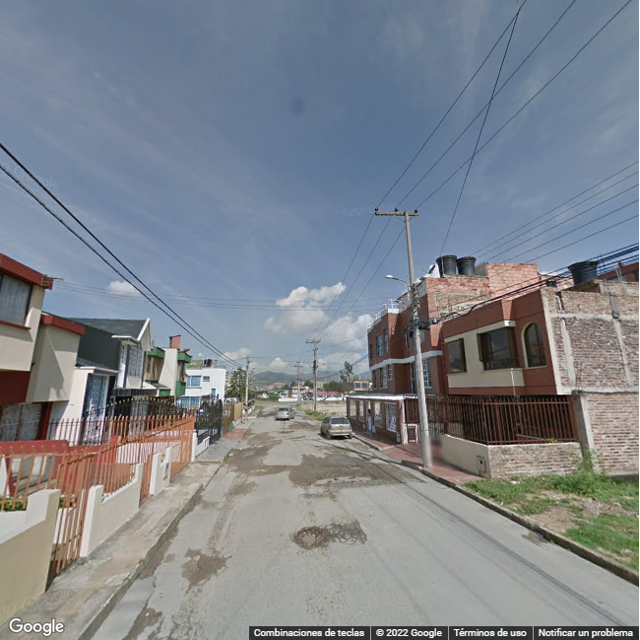D00: (187, 584, 199, 638), (168, 605, 178, 639)
D40: (295, 524, 331, 547)
